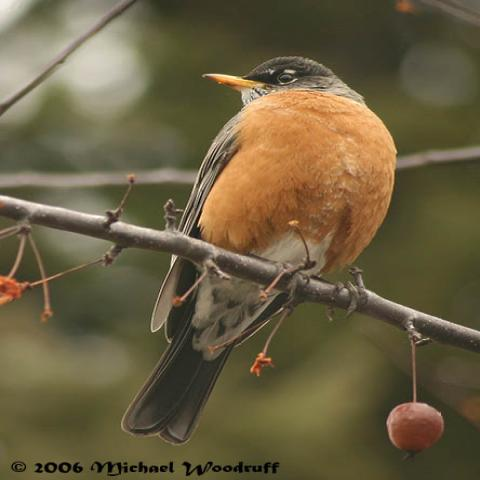bird: (119, 53, 398, 445)
